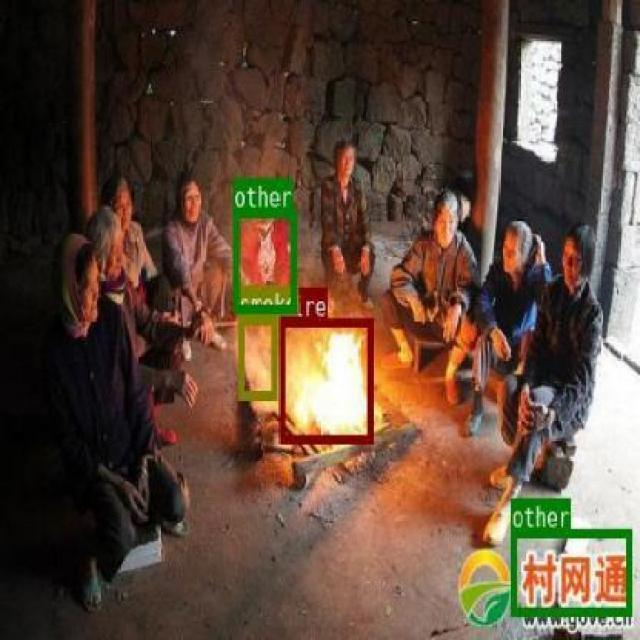Fire: (278, 316, 372, 442), (238, 316, 276, 398)
